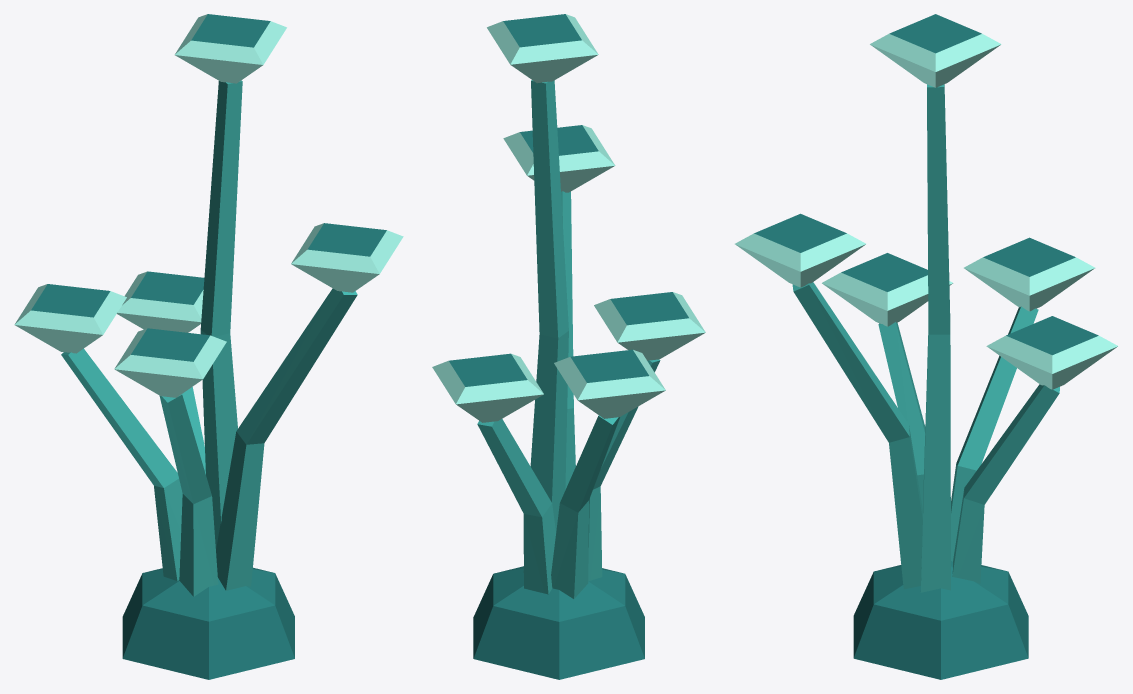
Rendered from plant_bulb_glow_pink.fbx.
3 views of the same model, side by side, from view 1: azimuth 30°, elevation 25°; view 2: azimuth 150°, elevation 25°; view 3: azimuth 270°, elevation 25° (orthographic). The views are drawn at different scales.
Parts seen in each view (by area): view 1: plant_bulb_glow_pink; view 2: plant_bulb_glow_pink; view 3: plant_bulb_glow_pink.
Part boxes in pixels (box(x1,y1,x2,y2)): plant_bulb_glow_pink: box(14, 14, 403, 679); plant_bulb_glow_pink: box(432, 14, 705, 679); plant_bulb_glow_pink: box(735, 14, 1117, 679).
Size of the model in its own units: 417 by 870 by 494.
1 material, 1 textured.
